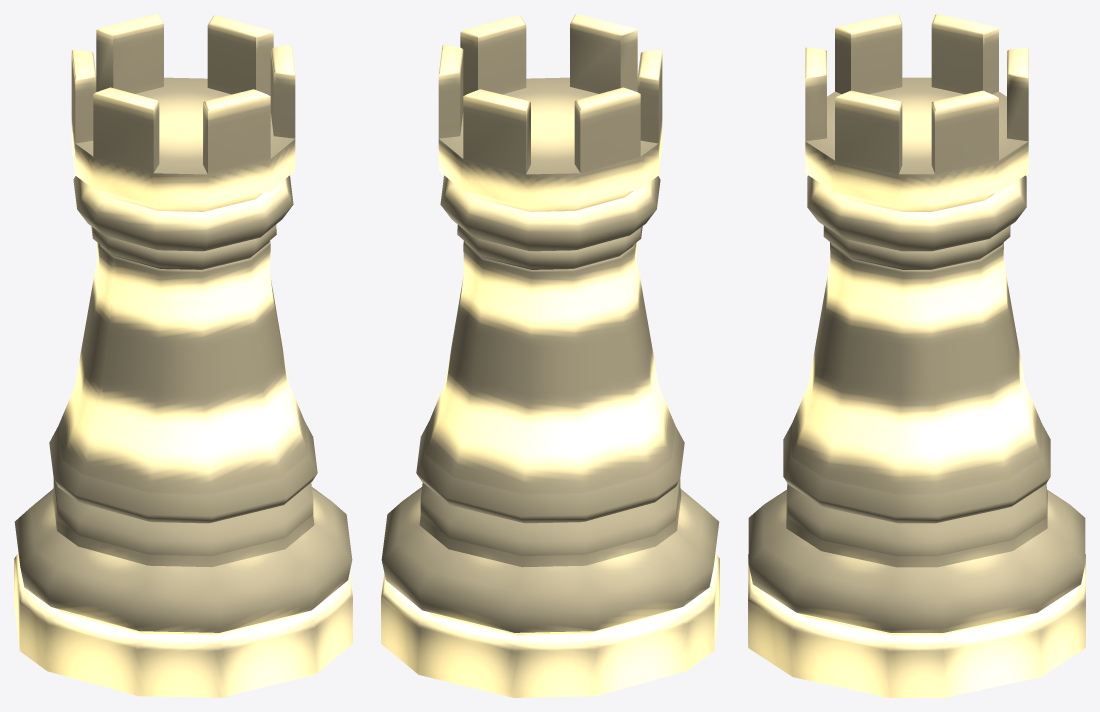
Rendered from item-3-10.glb.
3 renders of one model, left to right at view 1: azimuth 30°, elevation 25°; view 2: azimuth 150°, elevation 25°; view 3: azimuth 270°, elevation 25°, orthographic.
Visible parts, largest first — view 1: BlackTower; view 2: BlackTower; view 3: BlackTower.
Boxes of the visible parts, x1,y1,x2,y2 form: BlackTower: (14,14,352,697); BlackTower: (381,14,719,697); BlackTower: (748,14,1085,697).
Size of the model in its own units: 0.092 by 0.1651 by 0.0897.
1 material, 1 textured.
